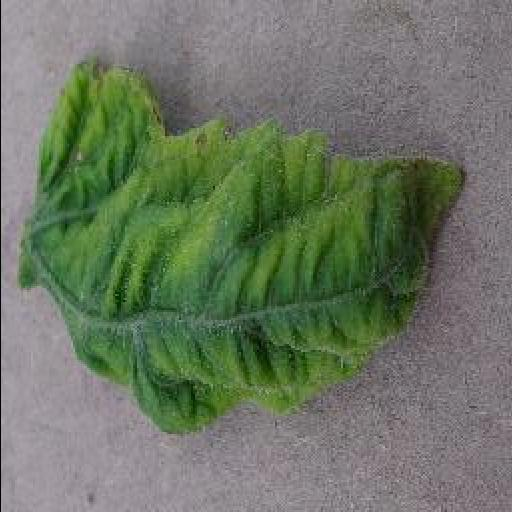disease_tomato: (20, 58, 470, 435)
